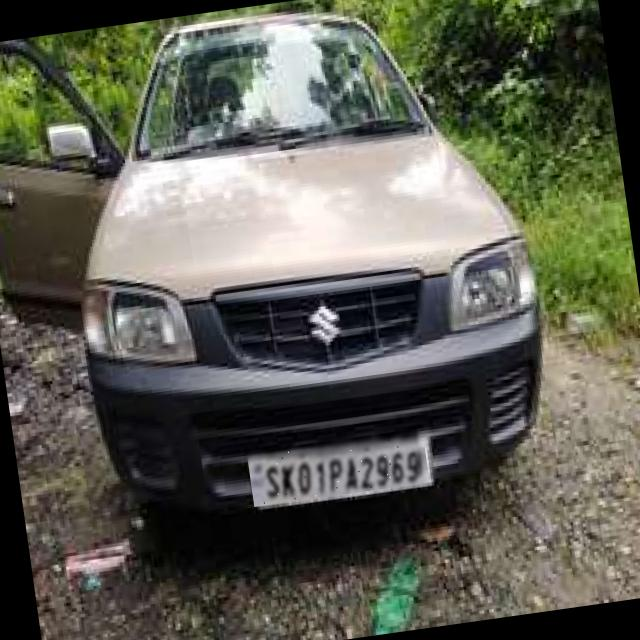Plate: (248, 429, 430, 508)
